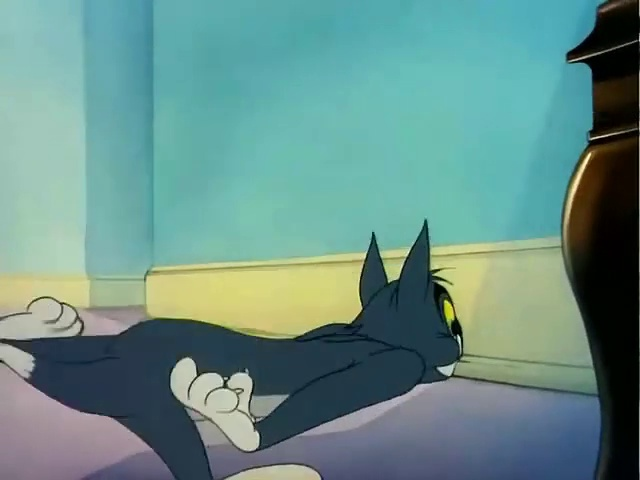tom: (3, 258, 518, 471)
